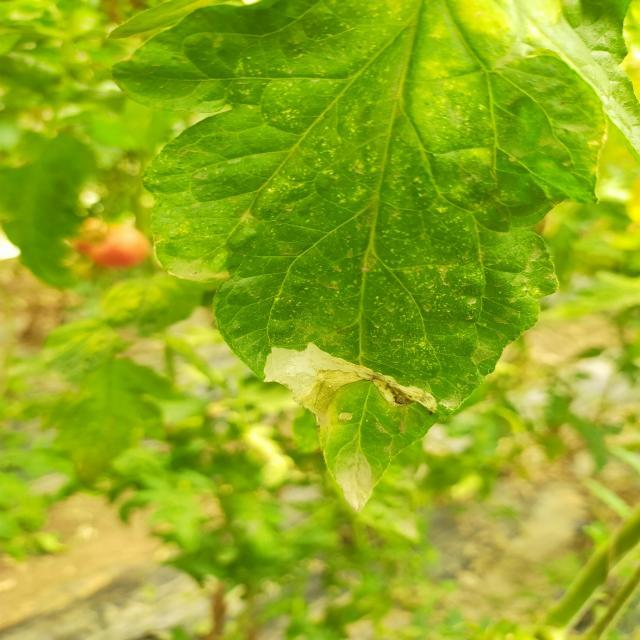Tuta absoluta: (240, 325, 444, 465)
